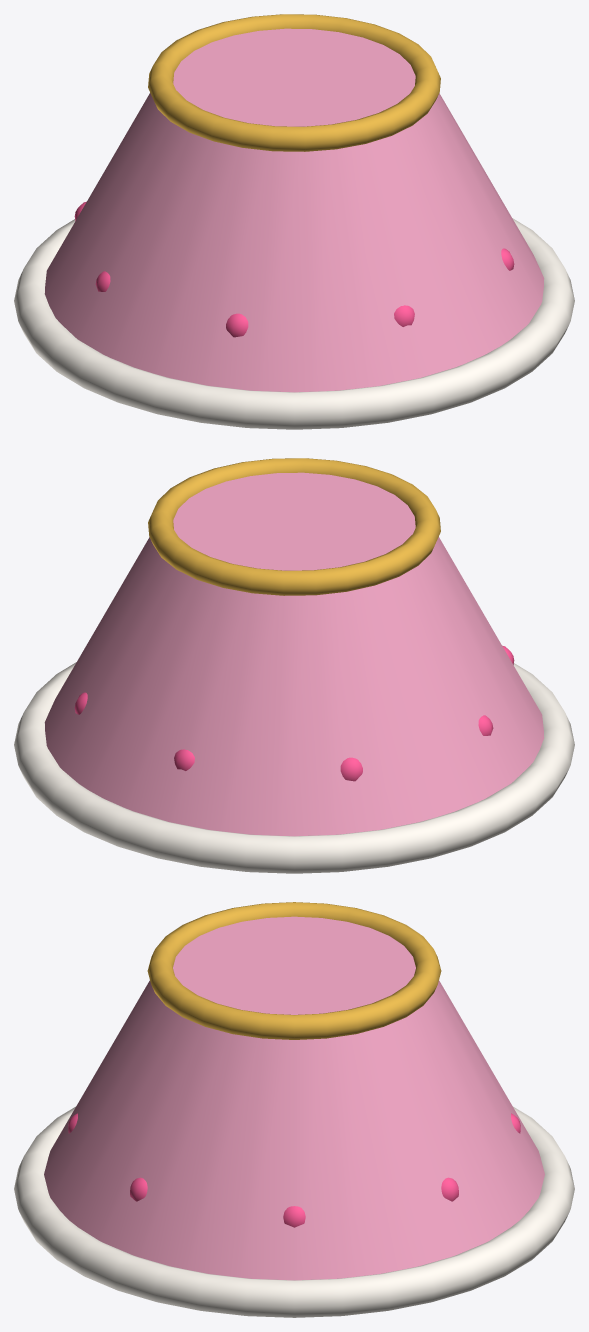
The model's file is skirt_icy.glb.
3 views of the same model, one above another, from view 1: azimuth 30°, elevation 25°; view 2: azimuth 150°, elevation 25°; view 3: azimuth 270°, elevation 25° (orthographic).
Size of the model in its own units: 1.68 by 0.82 by 1.68.
